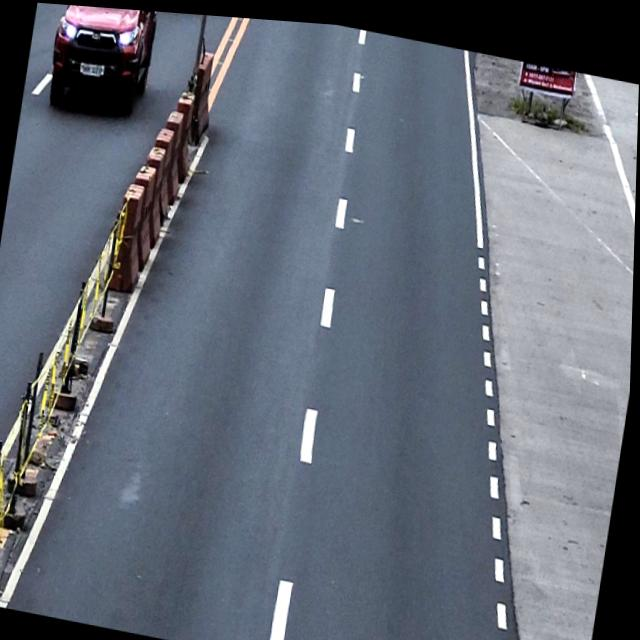Car: (43, 3, 161, 121)
License-Plate: (78, 58, 106, 77)
